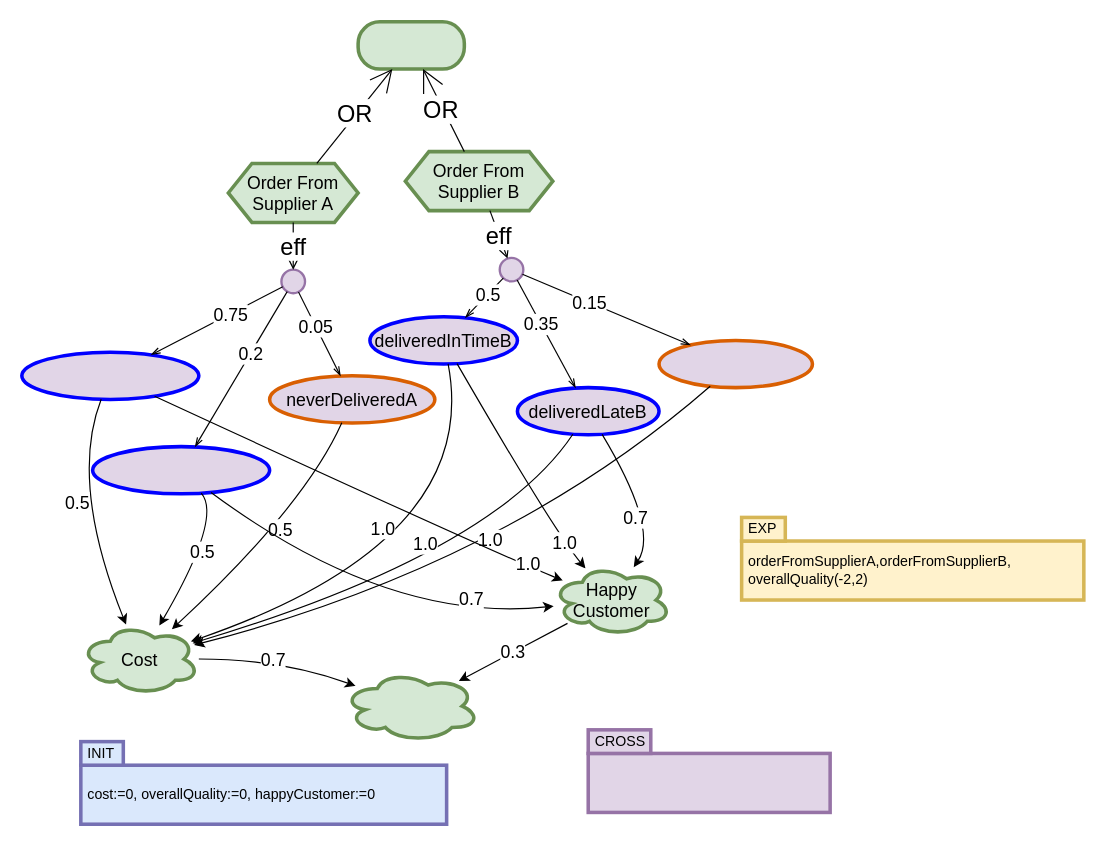
Image size: 1106x846. Some labels were removed from this diagram. The shapes that lost their labels are listed below. From the top down, each one's centre as x and y in pixels, then its label:
At pixel 411 44: "Order Material".
At pixel 109 375: "deliveredInTimeA".
At pixel 735 363: "neverDeliveredB".
At pixel 180 469: "deliveredLateA".
At pixel 410 705: "Overall Quality".
At pixel 708 782: "cost, happyCustomer".
